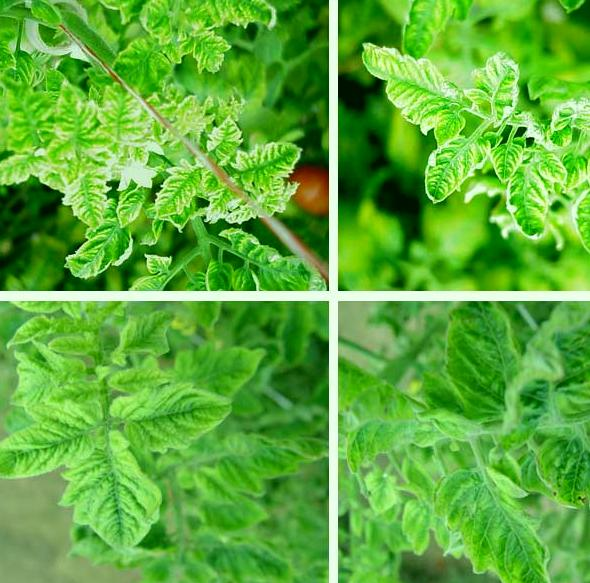Tomato mold leaf: (417, 455, 558, 583), (59, 432, 176, 557), (104, 382, 249, 459), (443, 301, 529, 426), (0, 404, 102, 492)
